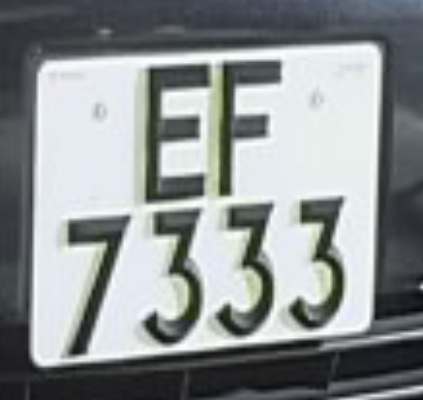3: (130, 200, 216, 354), (203, 196, 288, 346), (283, 184, 356, 342)
7: (50, 205, 135, 365)
E: (127, 42, 218, 212)
F: (205, 42, 293, 207)
